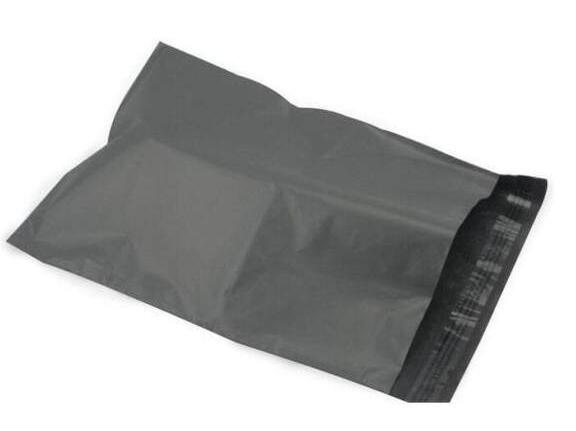塑料袋: (8, 43, 547, 401)
